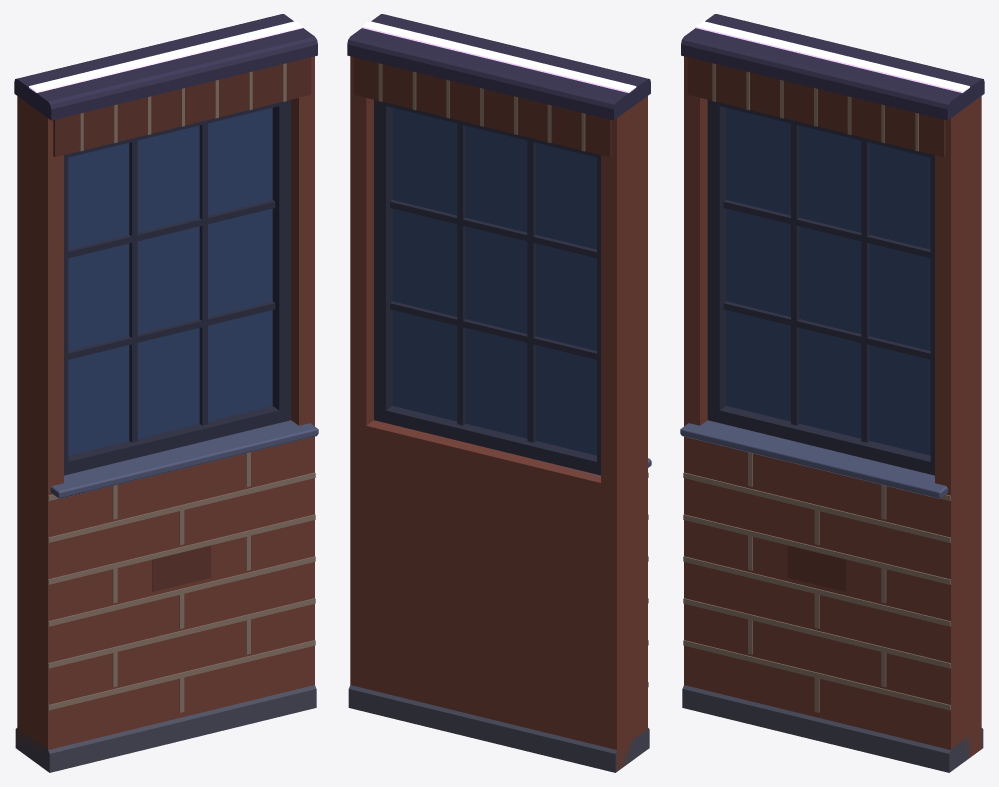
Rendered from wand_voll_fenster.glb.
3 views of the same model, side by side, from view 1: azimuth 30°, elevation 25°; view 2: azimuth 150°, elevation 25°; view 3: azimuth 330°, elevation 25° (orthographic).
Parts seen in each view (by area): view 1: wand_voll_fenster; view 2: wand_voll_fenster; view 3: wand_voll_fenster.
Part boxes in pixels (bbox=[...]): wand_voll_fenster: bbox=[14, 14, 318, 772]; wand_voll_fenster: bbox=[347, 14, 651, 772]; wand_voll_fenster: bbox=[680, 14, 984, 772].
Size of the model in its own units: 1 by 2.4 by 0.27.
